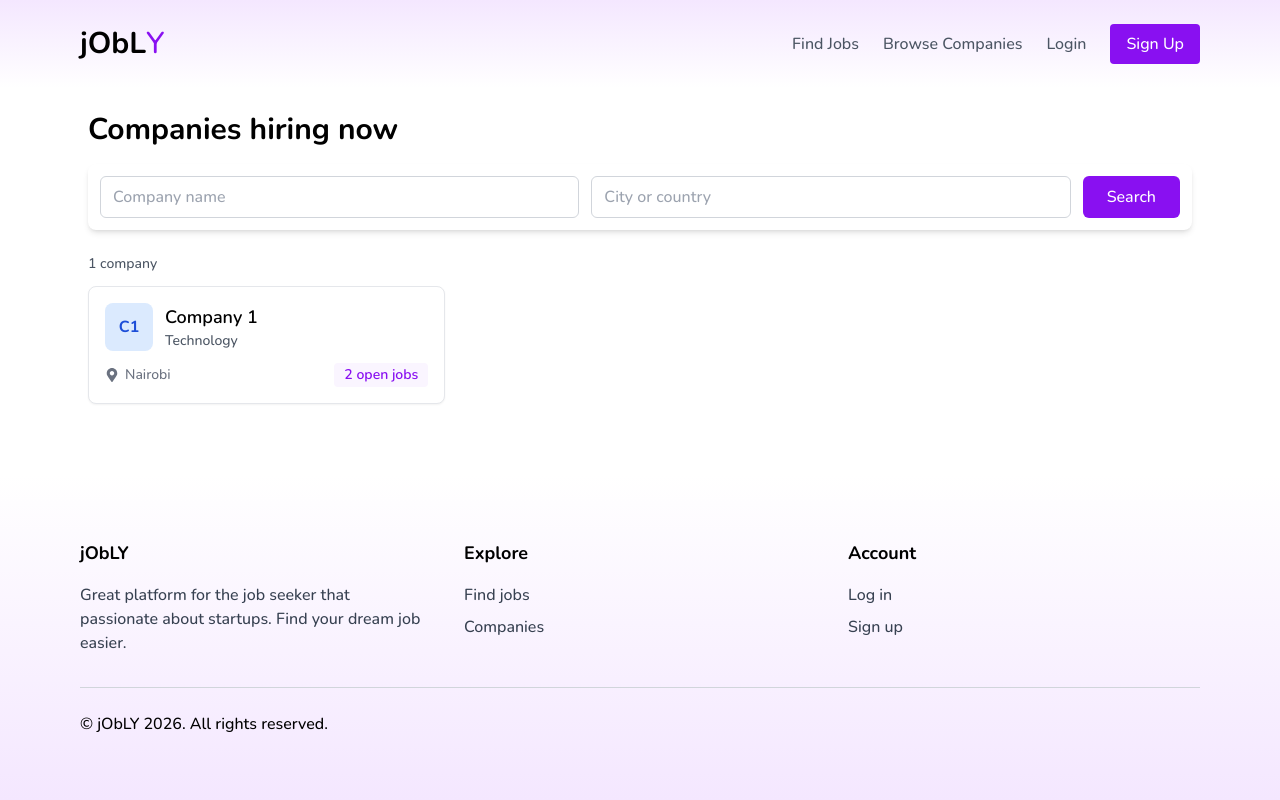
Test: CompaniesPage › search updates the URL and refetches with filters
Expected: the heading "Company 1" is shown, [165, 303, 258, 331]
Type "acme" into the field with placeholder "Company name" at coordinates (340, 197), box [100, 176, 579, 218]
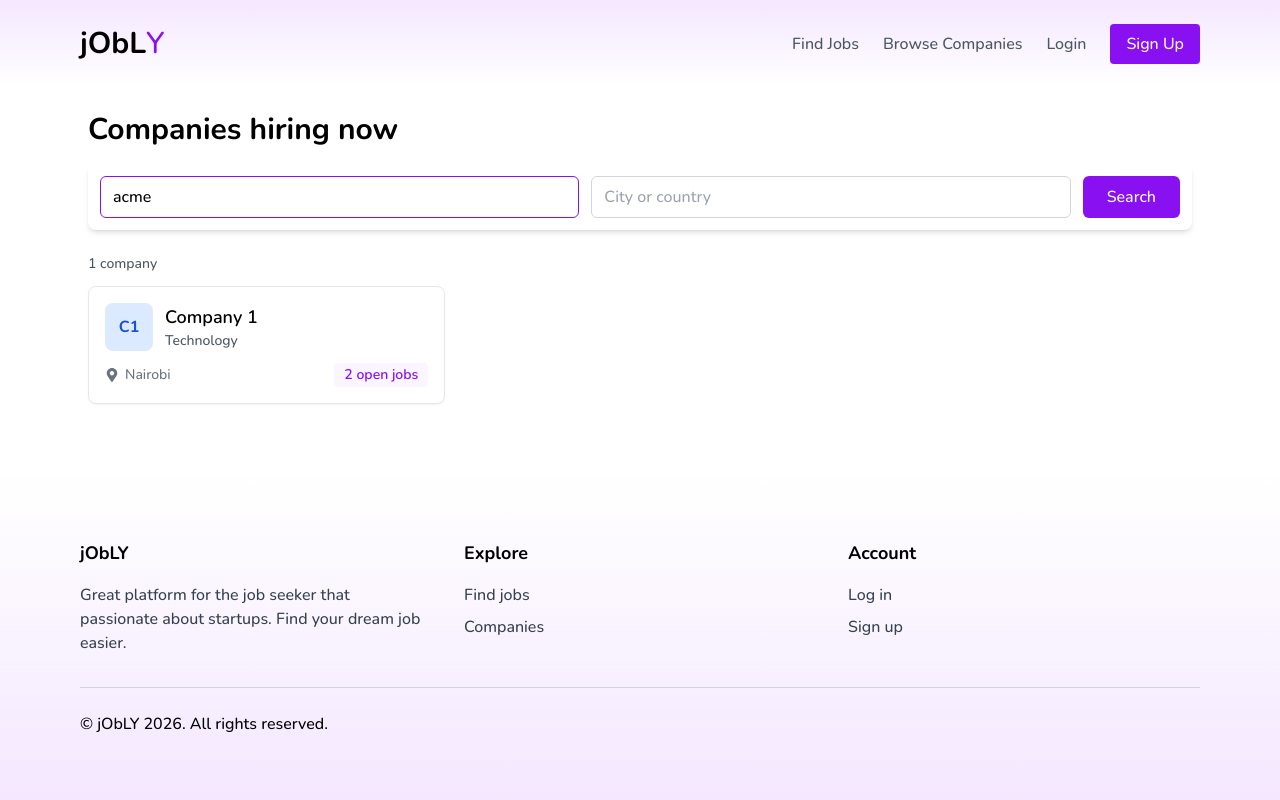
Type "Nairobi" into the field with placeholder "City or country" at coordinates (831, 197), box [591, 176, 1071, 218]
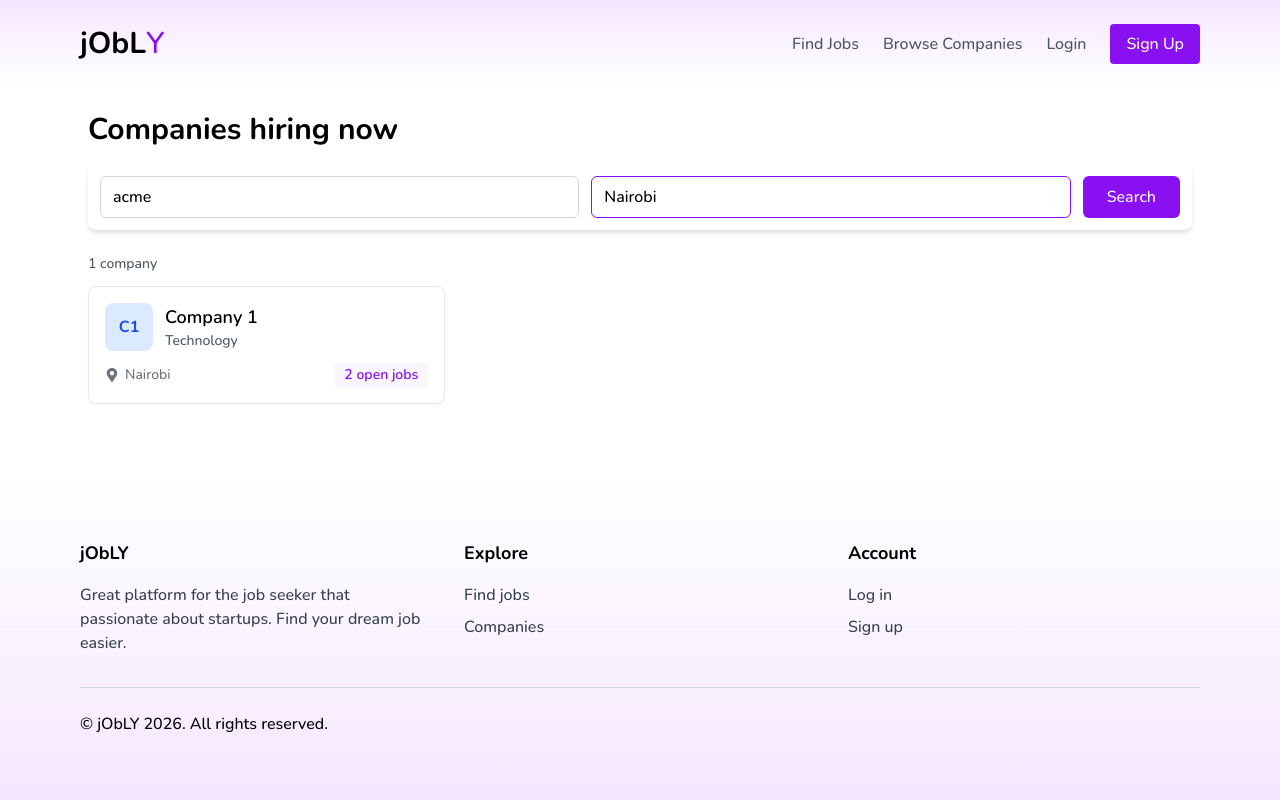
Click the button "Search" at coordinates (1131, 197), box [1083, 176, 1180, 218]
(page scrolled)
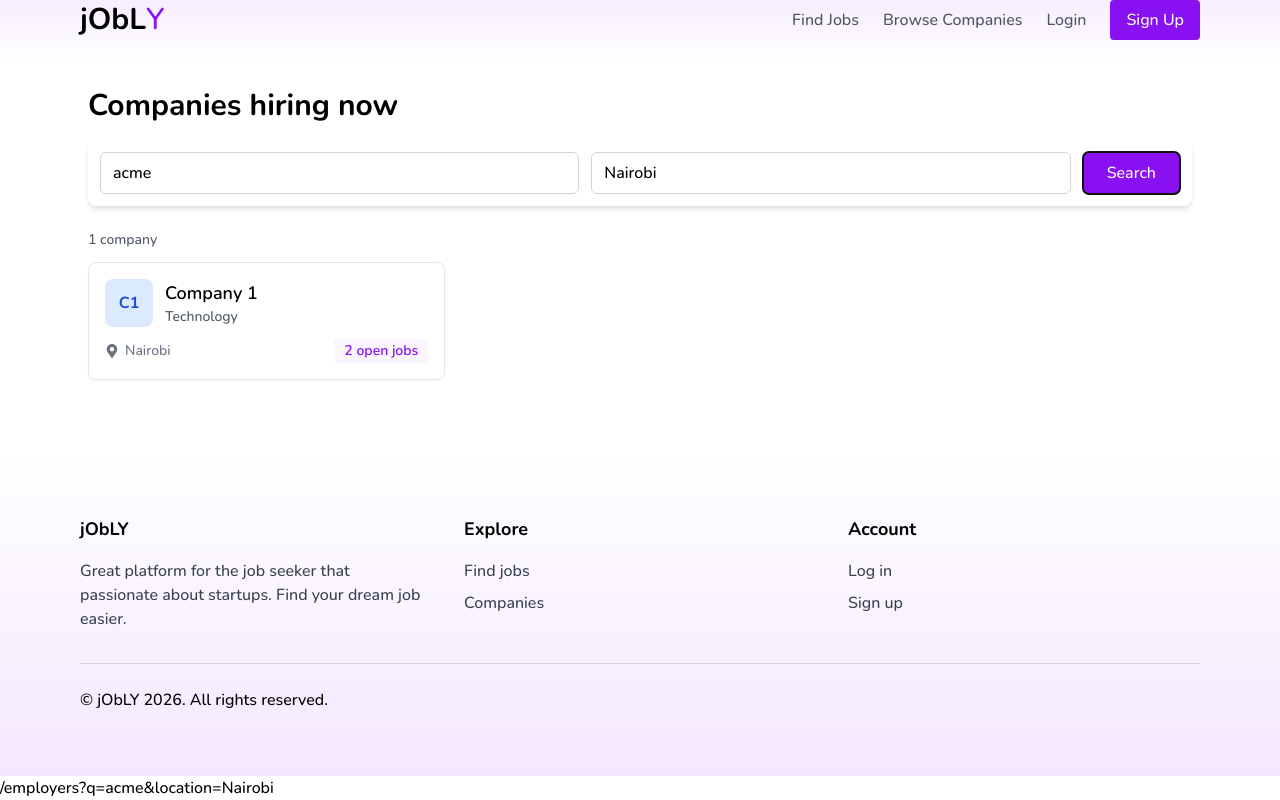
Result: the text with test id "loc" reads "/employers?q=acme&location=Nairobi" at [0, 777, 274, 799]
